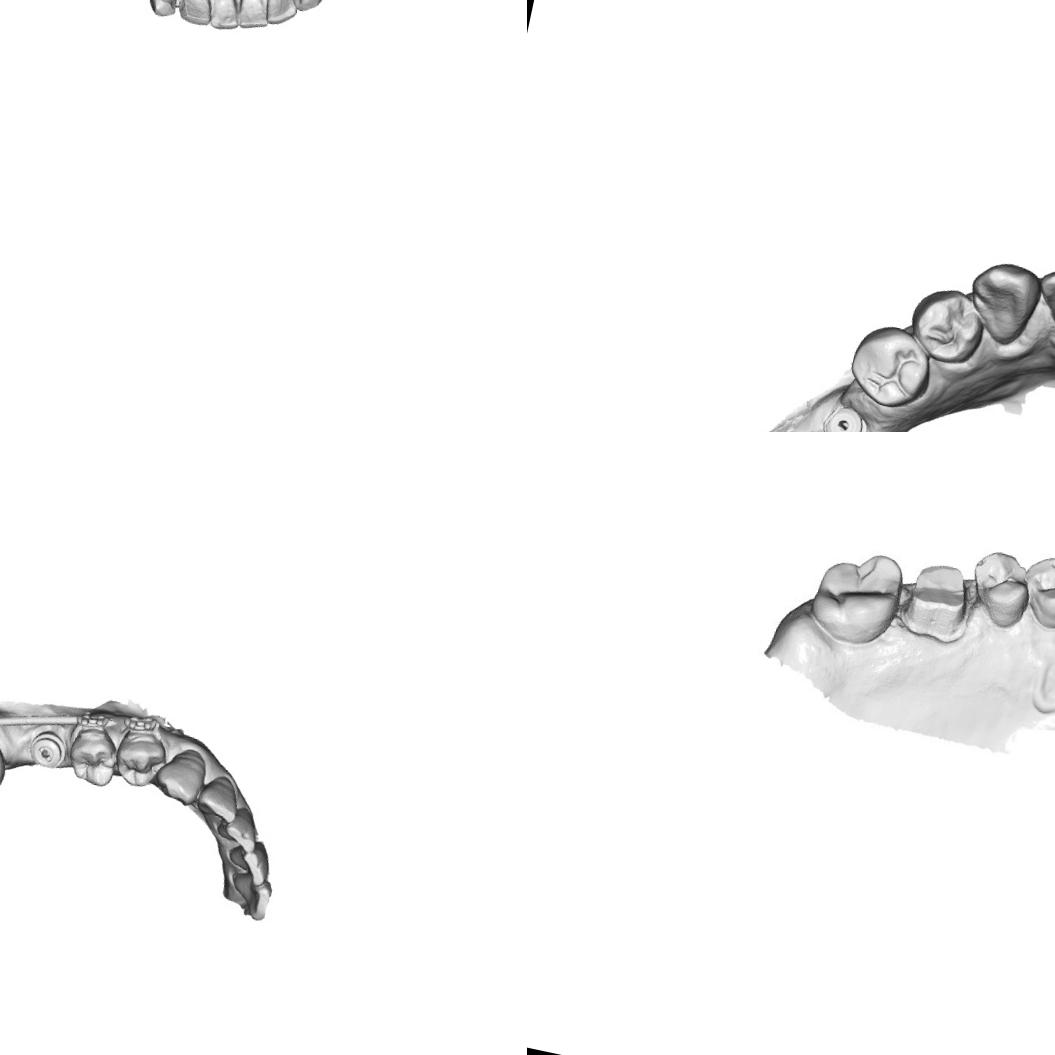canine: (961, 254, 1047, 352), (150, 742, 210, 808), (281, 0, 333, 18)
crown: (897, 552, 977, 645), (141, 0, 186, 20)
implant: (816, 398, 868, 432)
implant_minus: (26, 727, 72, 772)
incisor: (192, 769, 242, 826), (229, 834, 278, 889), (228, 872, 275, 922), (1028, 257, 1055, 341), (224, 804, 264, 854), (233, 0, 272, 35), (206, 0, 244, 33), (261, 0, 301, 29), (175, 0, 217, 27)
molar: (801, 540, 910, 653)
premolar: (845, 317, 938, 416), (903, 280, 990, 370), (965, 545, 1038, 636), (64, 720, 124, 790), (109, 728, 171, 794), (1016, 549, 1055, 633)
